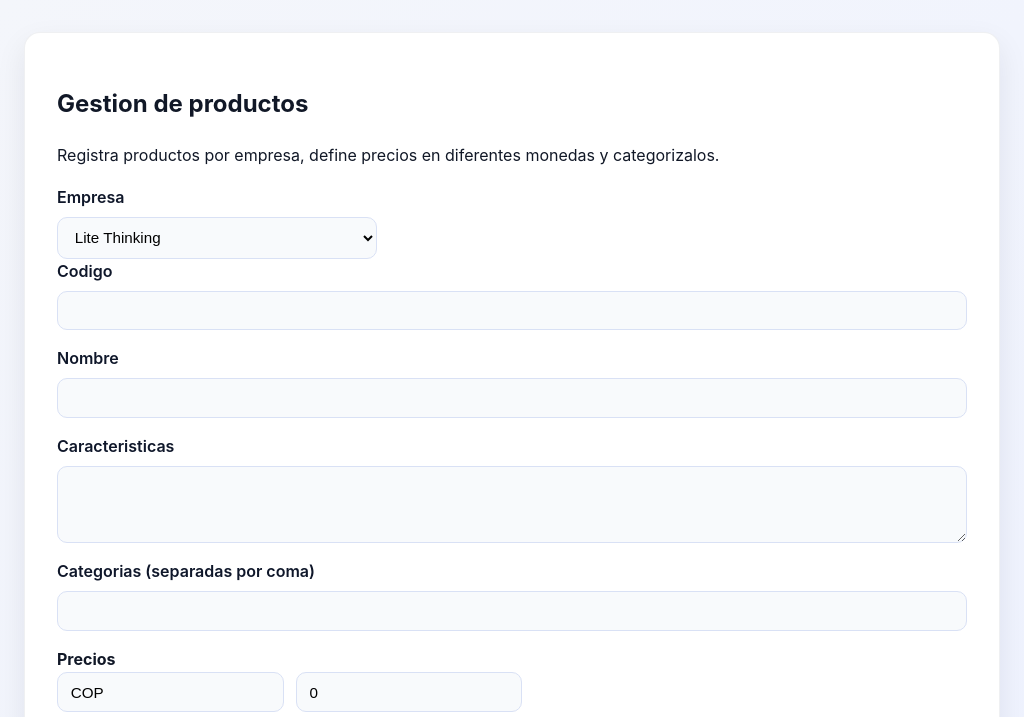
Test: ProductosPage › muestra mensaje de error cuando la creacion falla
In the field labelled "Codigo": (512, 310) left=57, top=290, right=967, bottom=330, type "PROD-01"
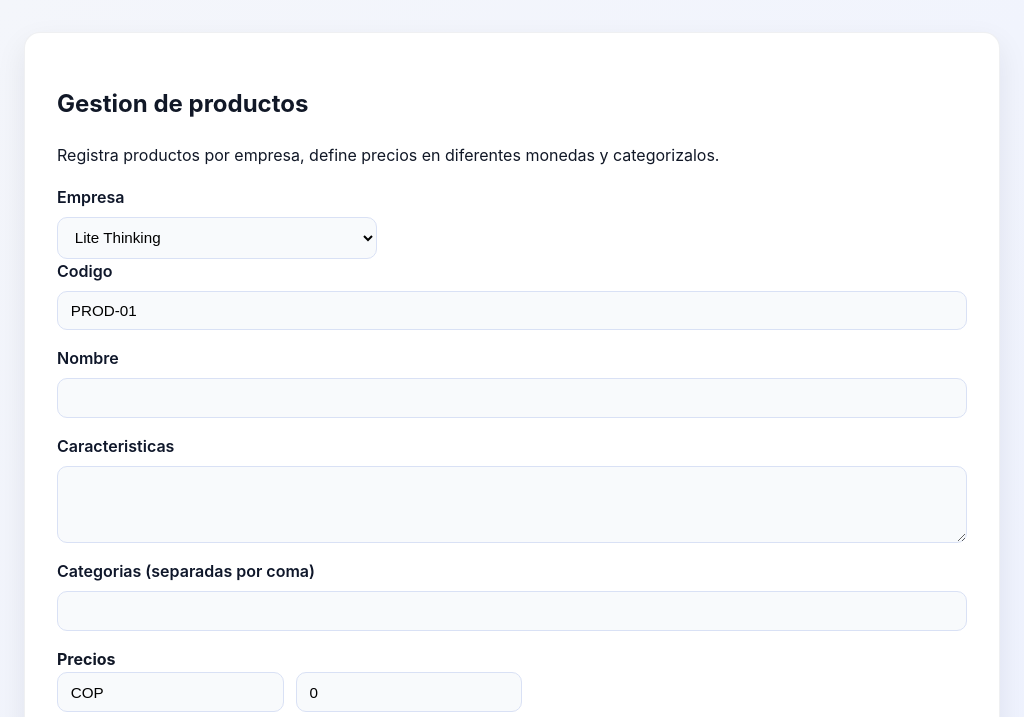
In the field labelled "Nombre": (512, 398) left=57, top=378, right=967, bottom=418, type "Laptop"
(page scrolled)
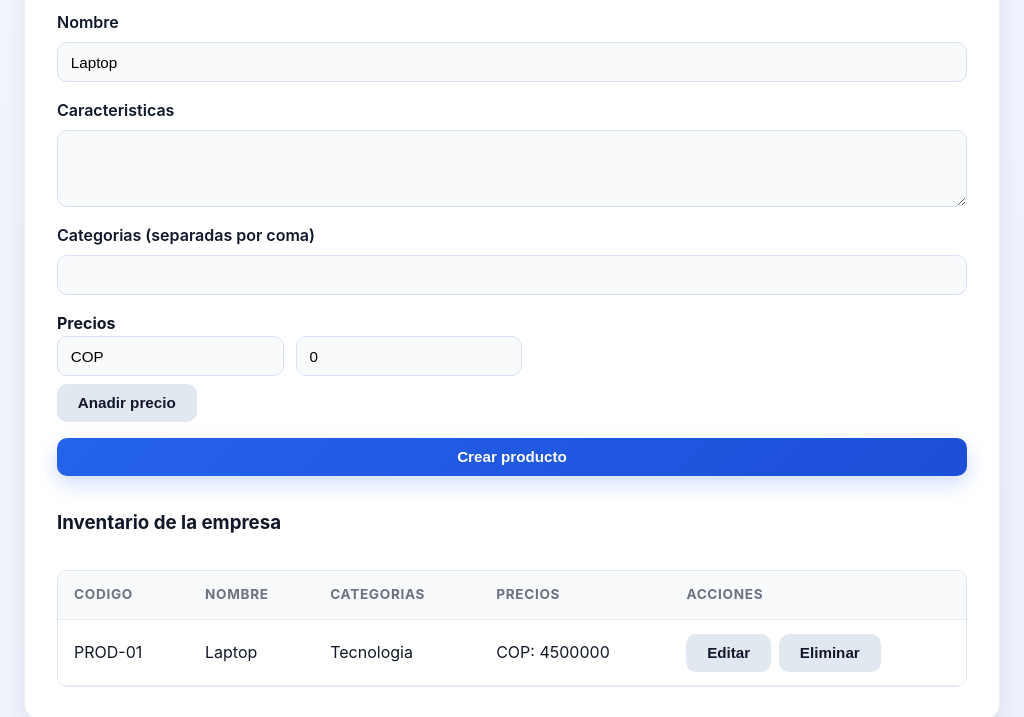
Click the button "Crear producto": click(512, 457) left=57, top=438, right=967, bottom=476
(page scrolled)
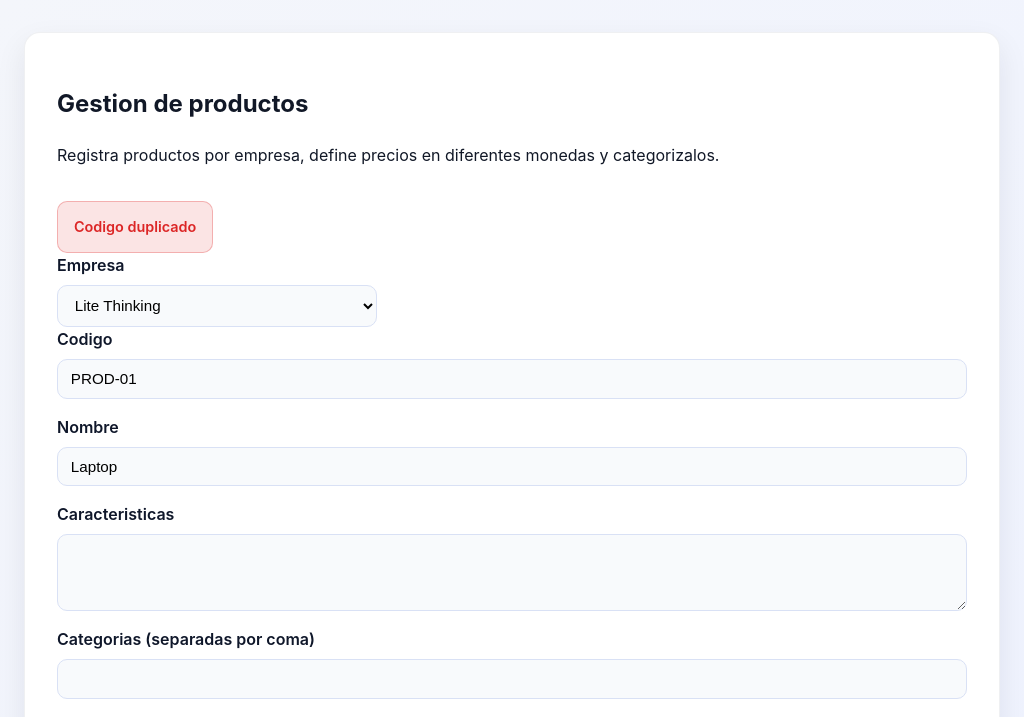
expect the text "Codigo duplicado" is shown: met, box left=57, top=201, right=213, bottom=253
